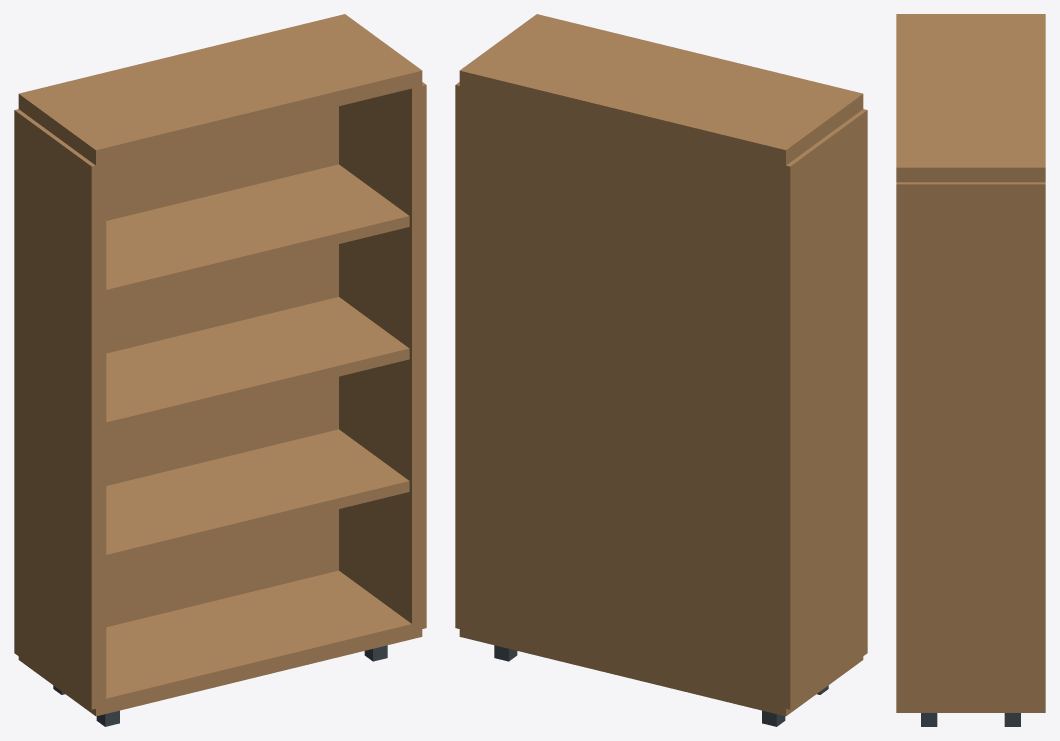
File: storage-2.glb
The picture shows the model from 3 angles, left to right: view 1: azimuth 30°, elevation 25°; view 2: azimuth 150°, elevation 25°; view 3: azimuth 270°, elevation 25°; orthographic projection. The views are drawn at different scales.
Parts seen in each view (by area): view 1: storage:2:editor; view 2: storage:2:editor; view 3: storage:2:editor.
Part boxes in pixels (left/top/right/bottom): storage:2:editor: left=14, top=14, right=426, bottom=726; storage:2:editor: left=455, top=14, right=867, bottom=726; storage:2:editor: left=896, top=14, right=1045, bottom=726.
Bounding box in the file's own units: 0.8 × 1.35 × 0.32.
